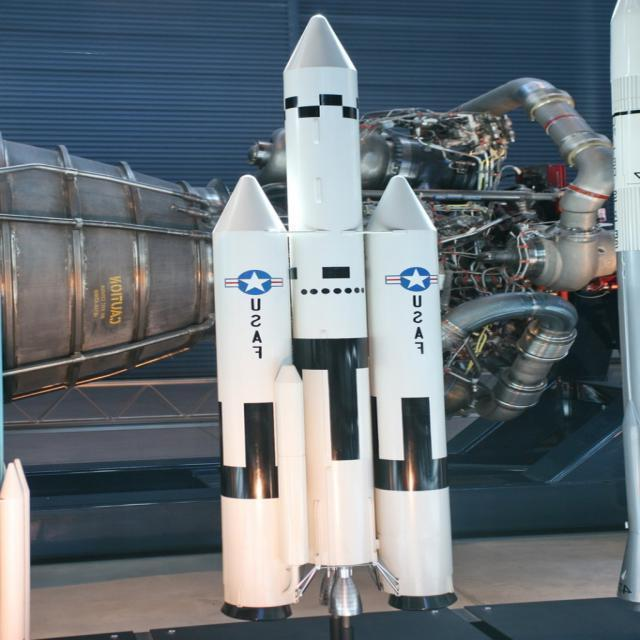missile: (200, 9, 457, 622)
